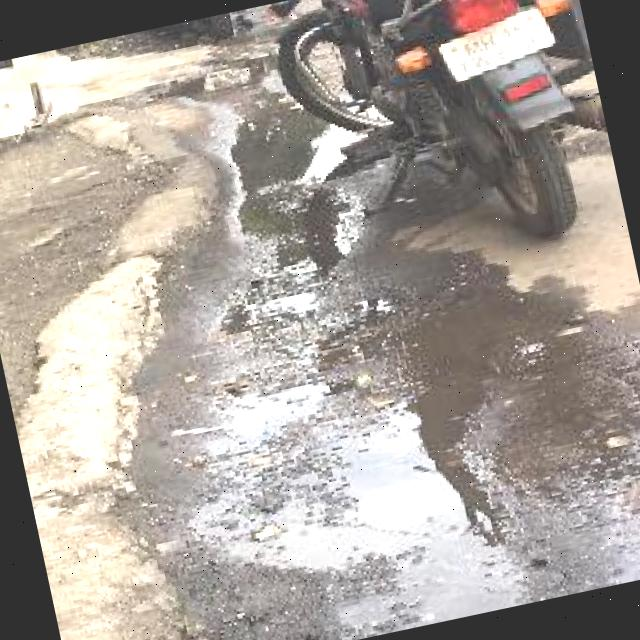stagnation: (178, 313, 542, 606), (182, 143, 364, 340)
